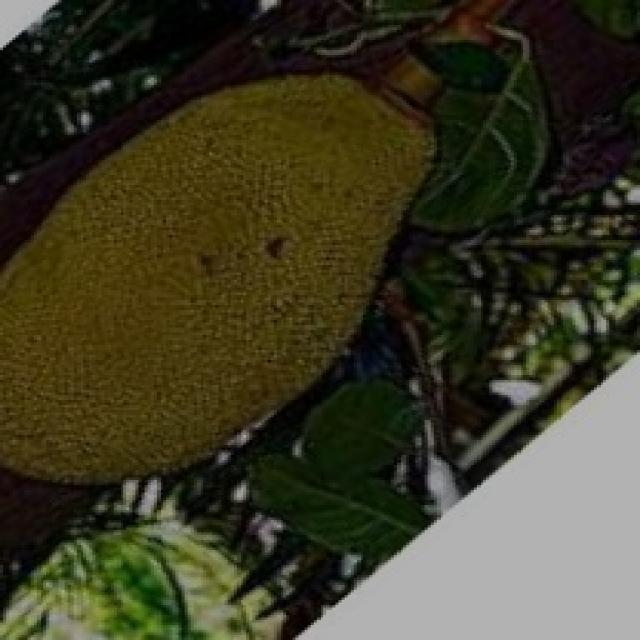Fruit: (0, 8, 403, 470)
